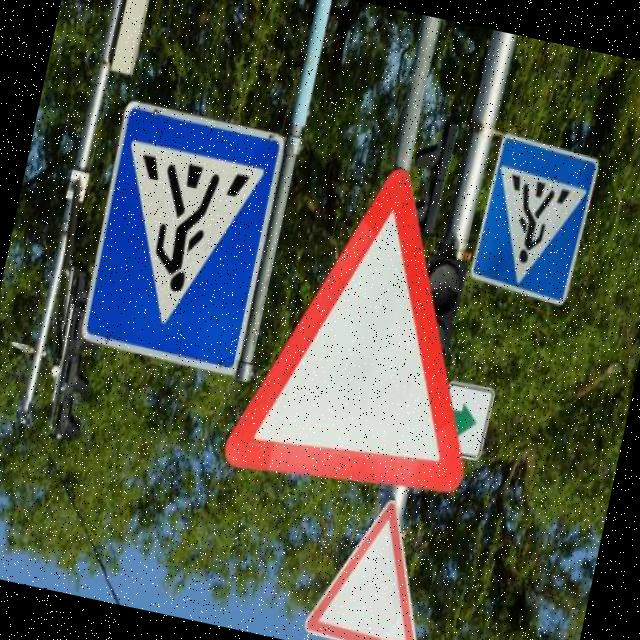crosswalk: (72, 95, 288, 378), (468, 120, 612, 313)
give_way: (216, 144, 507, 522), (293, 491, 456, 640)
